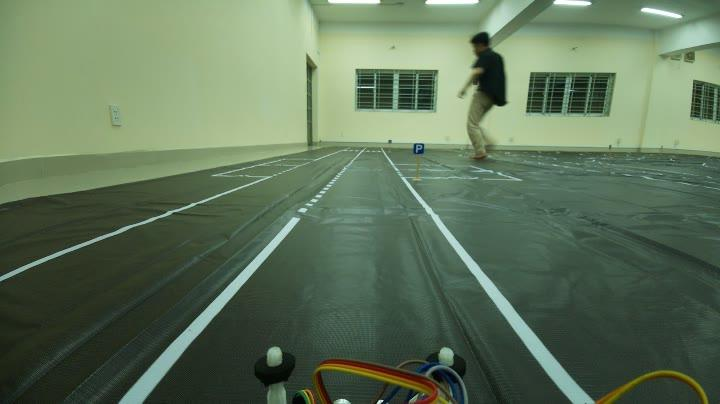parking: (409, 138, 427, 156)
